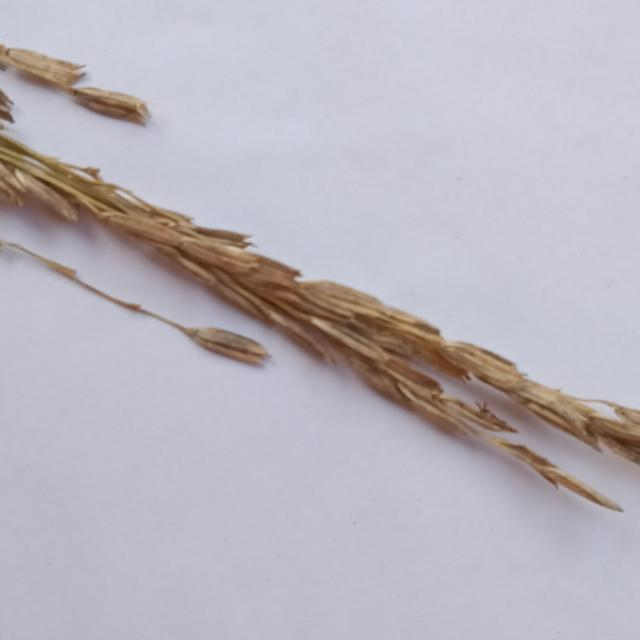Neck_Blast: (0, 135, 640, 516)
